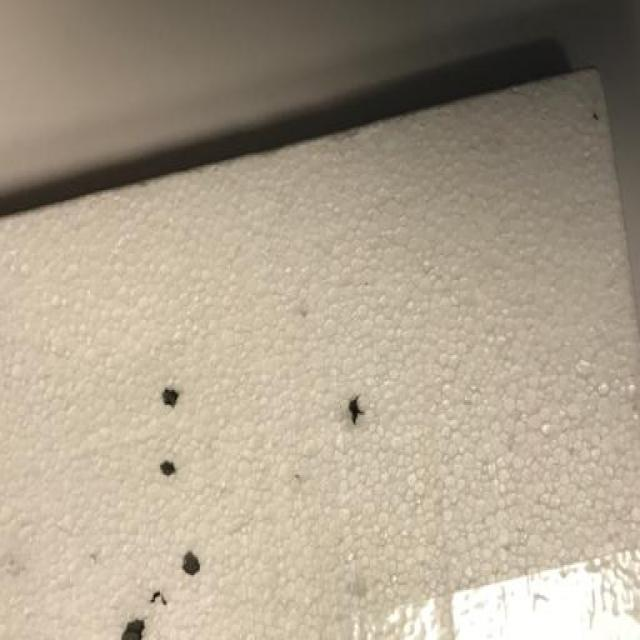others: (5, 58, 640, 634)
